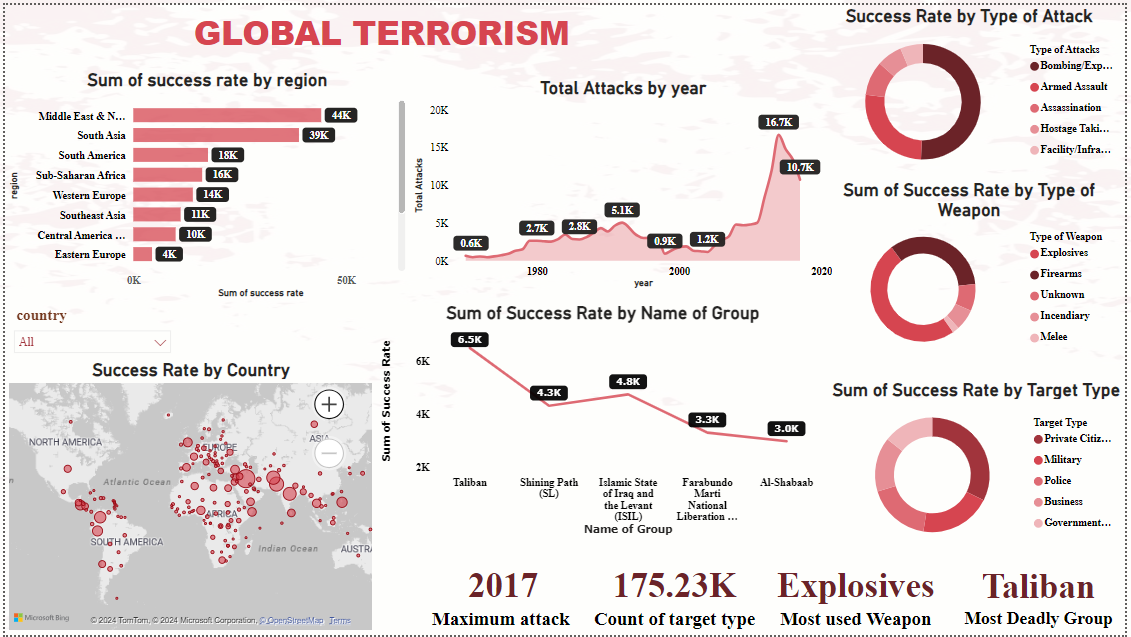

What the dashboard file says about the page in this screenshot:
{"tool":"powerbi","page":{"name":"Page 1","canvas":[1280,720],"ordinal":0},"visuals":[{"type":"donutChart","fields":{"Y":["Sum(global Terrorism.success rate)"],"Category":["global Terrorism.type of attack"]},"box":[922.4,0,357.9,198.2],"z":0},{"type":"donutChart","fields":{"Category":["global Terrorism.target type"],"Y":["Sum(global Terrorism.success rate)"]},"box":[940.2,426.8,340,196.9],"z":1000},{"type":"donutChart","fields":{"Category":["global Terrorism.type of weapon"],"Y":["Sum(global Terrorism.success rate)"]},"box":[922.4,198.2,357.9,206.5],"z":2000},{"type":"map","fields":{"Category":["global Terrorism.country"],"Size":["Sum(global Terrorism.success rate)"]},"box":[0,404.7,425.4,315.3],"z":3000},{"type":"barChart","fields":{"Y":["Sum(global Terrorism.success rate)"],"Category":["global Terrorism.region"]},"box":[0,73,462.6,267.1],"z":4000},{"type":"lineChart","fields":{"Category":["global Terrorism.name of group"],"Y":["Sum(global Terrorism.success rate)"]},"box":[425.4,340,514.9,271.2],"z":5000},{"type":"areaChart","fields":{"Category":["global Terrorism.year"],"Y":["CountNonNull(global Terrorism.year)"]},"box":[462.6,82.6,487.3,246.4],"z":6000},{"type":"slicer","fields":{"Values":["global Terrorism.country"]},"box":[0,340,199.6,64.7],"z":7000},{"type":"card","fields":{"Values":["Min(global Terrorism.name of group)"]},"box":[1083.4,626.4,196.9,93.6],"z":8000},{"type":"card","fields":{"Values":["CountNonNull(global Terrorism.target type)"]},"box":[660.8,626.4,207.9,93.6],"z":9000},{"type":"card","fields":{"Values":["Max(global Terrorism.year)"]},"box":[479.1,623.6,181.7,96.4],"z":10000},{"type":"card","fields":{"Values":["Min(global Terrorism.type of weapon)"]},"box":[868.7,626.4,207.9,93.6],"z":11000},{"type":"textbox","box":[85.4,0,689.7,73],"z":12000}]}

Visuals, with their boxes in screenshot pixels (x1, y1, x2, y2), scaled from the page's 1280x720 canvas onto the 1131x637 screenshot:
donutChart - Sum(global Terrorism.success rate) x global Terrorism.type of attack: 815 0 1130 175
donutChart - global Terrorism.target type x Sum(global Terrorism.success rate): 831 378 1130 552
donutChart - global Terrorism.type of weapon x Sum(global Terrorism.success rate): 815 175 1130 358
map - global Terrorism.country x Sum(global Terrorism.success rate): 0 358 376 636
barChart - Sum(global Terrorism.success rate) x global Terrorism.region: 0 65 409 301
lineChart - global Terrorism.name of group x Sum(global Terrorism.success rate): 376 301 831 541
areaChart - global Terrorism.year x CountNonNull(global Terrorism.year): 409 73 839 291
slicer - global Terrorism.country: 0 301 176 358
card - Min(global Terrorism.name of group): 957 554 1130 636
card - CountNonNull(global Terrorism.target type): 584 554 768 636
card - Max(global Terrorism.year): 423 552 584 636
card - Min(global Terrorism.type of weapon): 768 554 951 636
textbox: 75 0 685 65
